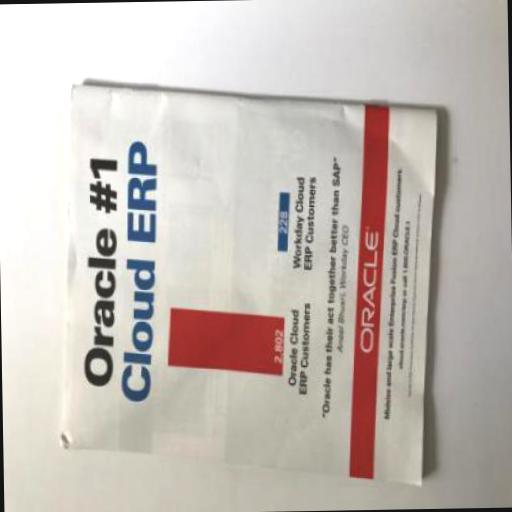paper: (54, 78, 444, 494)
